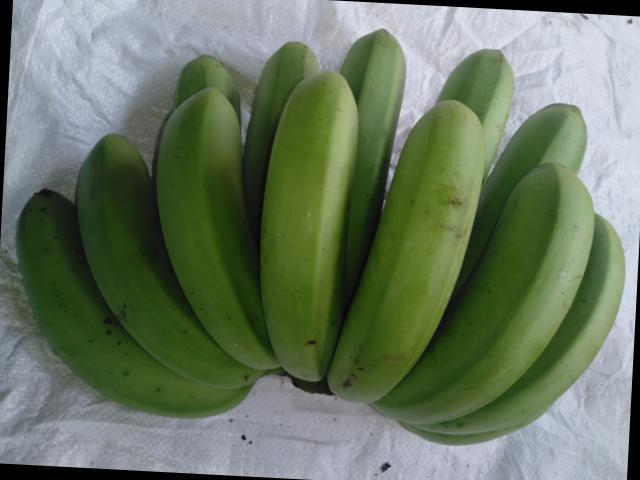freshunripe: (389, 154, 591, 472), (325, 99, 497, 417), (74, 124, 228, 424), (153, 74, 262, 403), (258, 63, 357, 391)
